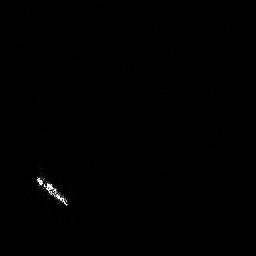ship: (32, 170, 71, 208)
